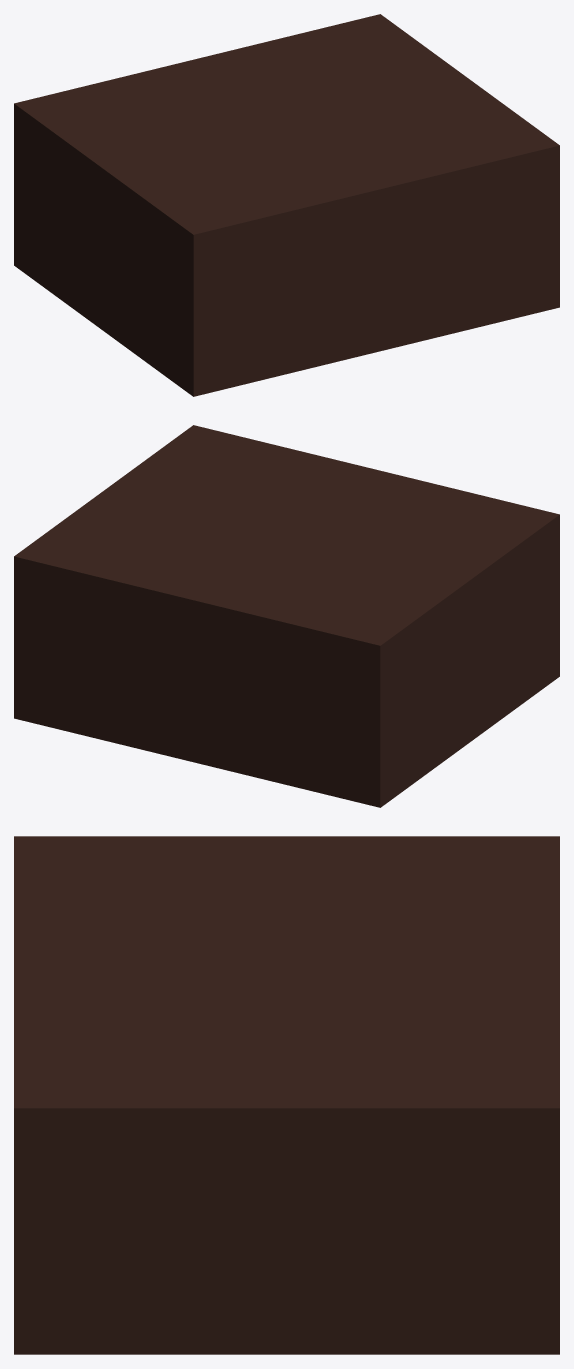
The model's file is room.glb.
3 views of the same model, one above another, from view 1: azimuth 30°, elevation 25°; view 2: azimuth 150°, elevation 25°; view 3: azimuth 270°, elevation 25° (orthographic). The views are drawn at different scales.
Visible parts, largest first — view 1: Plane-col; view 2: Plane-col; view 3: Plane-col.
Boxes of the visible parts, bbox=[...] form: Plane-col: bbox=[14, 14, 559, 396]; Plane-col: bbox=[14, 425, 559, 807]; Plane-col: bbox=[14, 836, 559, 1354].
Size of the model in its own units: 14.2 by 6 by 12.05.
